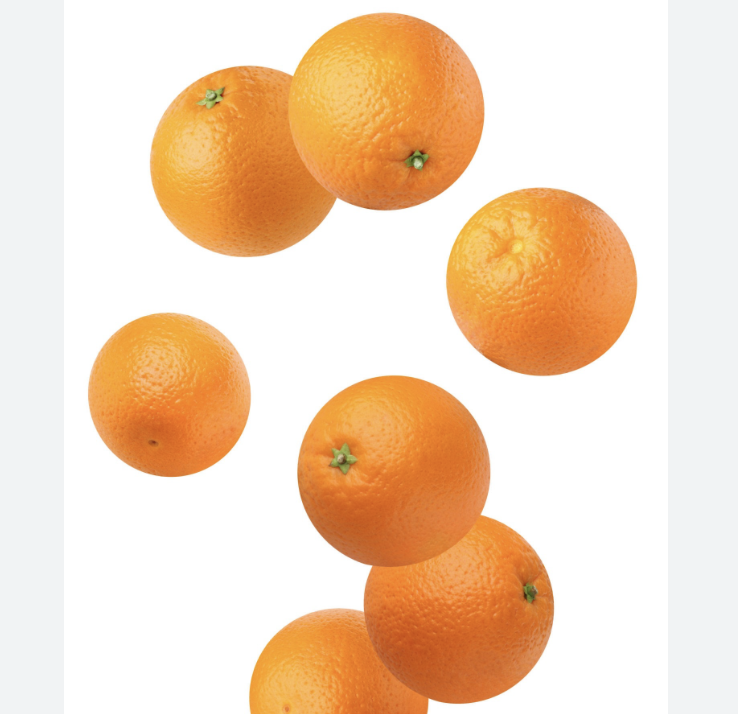orange: (277, 0, 496, 218), (437, 184, 652, 405), (346, 505, 584, 703), (137, 58, 352, 260), (284, 372, 496, 575), (84, 298, 251, 485), (237, 588, 431, 714)
